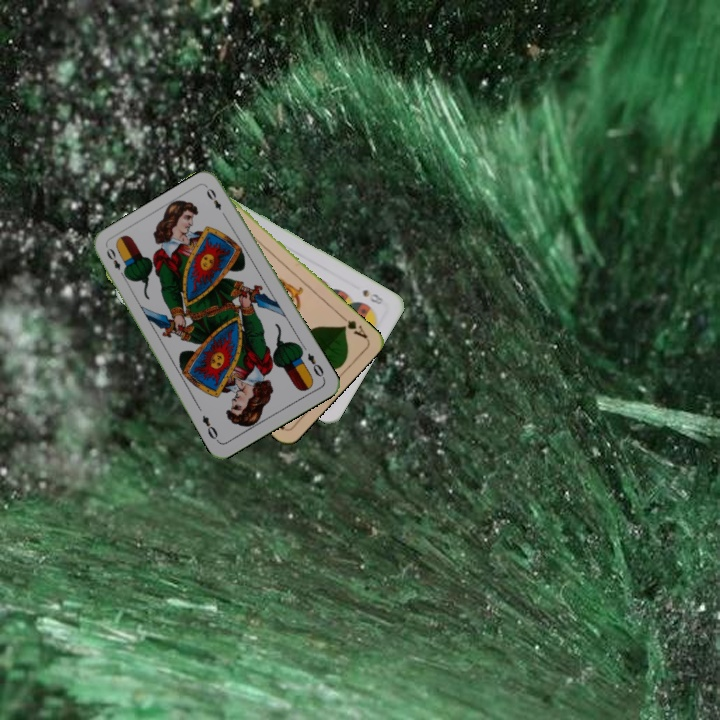EO: (102, 244, 130, 281), (303, 349, 327, 382)
GA: (336, 311, 370, 341)
S8: (358, 285, 387, 307)
